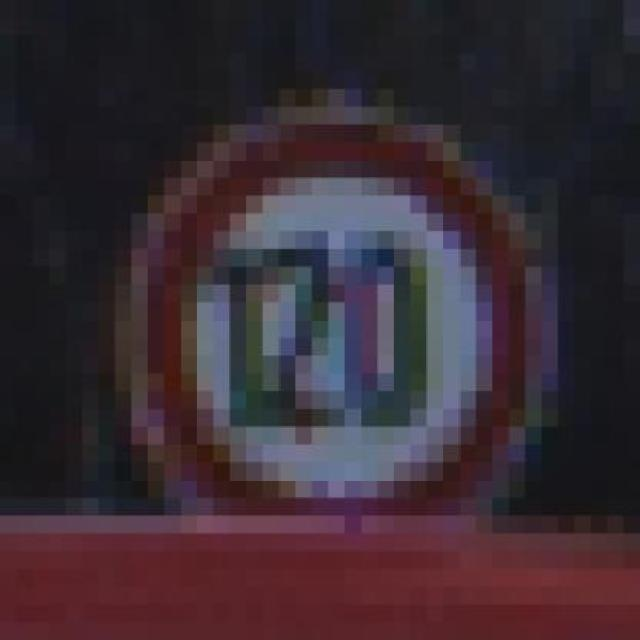forb_speed_over_120: (143, 116, 523, 510)
